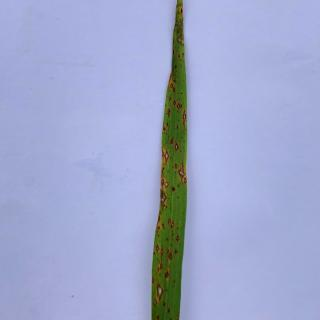Blast: (151, 242, 180, 286), (151, 177, 180, 207), (176, 160, 190, 182), (178, 106, 190, 127), (153, 282, 165, 302), (159, 145, 170, 161), (166, 213, 176, 230), (167, 76, 178, 90), (171, 138, 181, 152), (174, 97, 184, 109)
